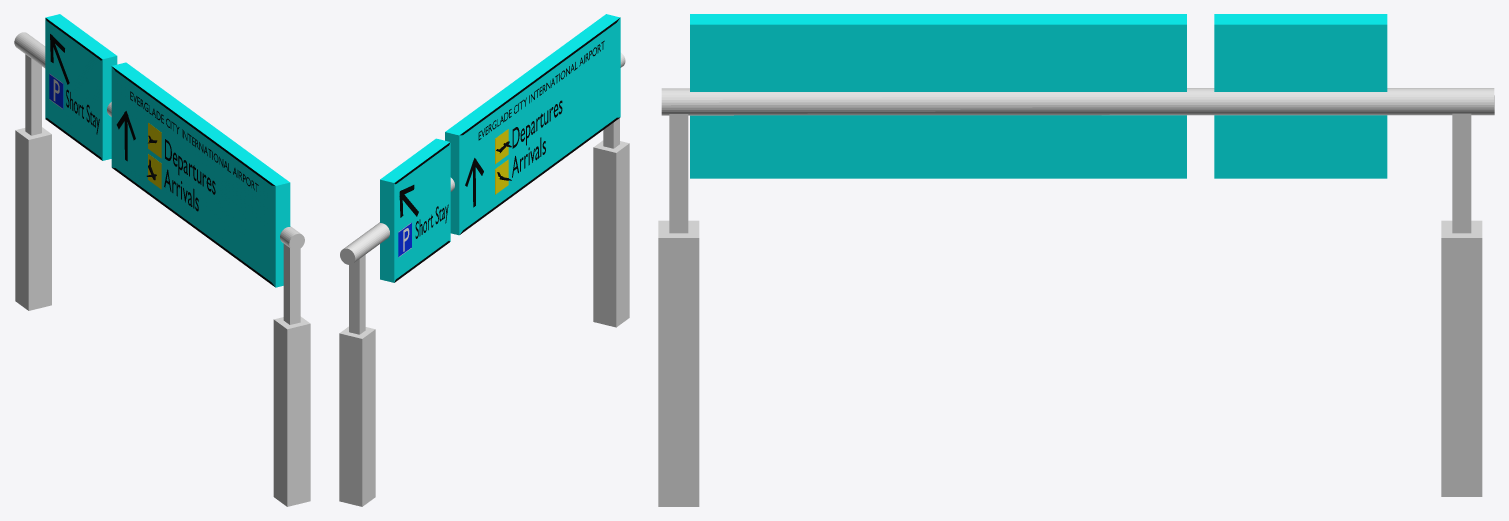
Rendered from ECIA_sign_5.fbx.
The picture shows the model from 3 angles, left to right: view 1: azimuth 30°, elevation 25°; view 2: azimuth 150°, elevation 25°; view 3: azimuth 270°, elevation 25°; orthographic projection. The views are drawn at different scales.
Parts seen in each view (by area): view 1: Cube.001, Cube.002, Cube, Cube.004, Cylinder, Text.001, Text, Cube.005, Cube.003; view 2: Cube.001, Cube, Cube.004, Cube.002, Cylinder, Text.001, Text, Cube.005, Cube.006; view 3: Cube.001, Cube.004, Cylinder, Cube.002, Cube.
Part boxes in pixels (x1,y1,x2,y2): Cube.001: (111,62,290,287); Cube.002: (273,243,310,506); Cube: (15,54,51,310); Cube.004: (45,14,117,160); Cylinder: (14,32,304,250); Text.001: (164,139,215,211); Text: (130,91,258,191); Cube.005: (49,73,63,109); Cube.003: (148,123,161,158); Cube.001: (445,14,620,235); Cube: (339,255,375,506); Cube.004: (380,138,450,282); Cube.002: (593,118,629,327); Cylinder: (340,52,625,264); Text.001: (512,100,562,177); Text: (478,40,604,140); Cube.005: (398,222,411,257); Cube.006: (495,159,508,194); Cube.001: (690,14,1186,178); Cube.004: (1214,14,1387,178); Cylinder: (661,88,1494,115); Cube.002: (658,114,699,506); Cube: (1441,113,1482,496).
Bounding box in the file's own units: 8.65 × 76.97 × 123.
